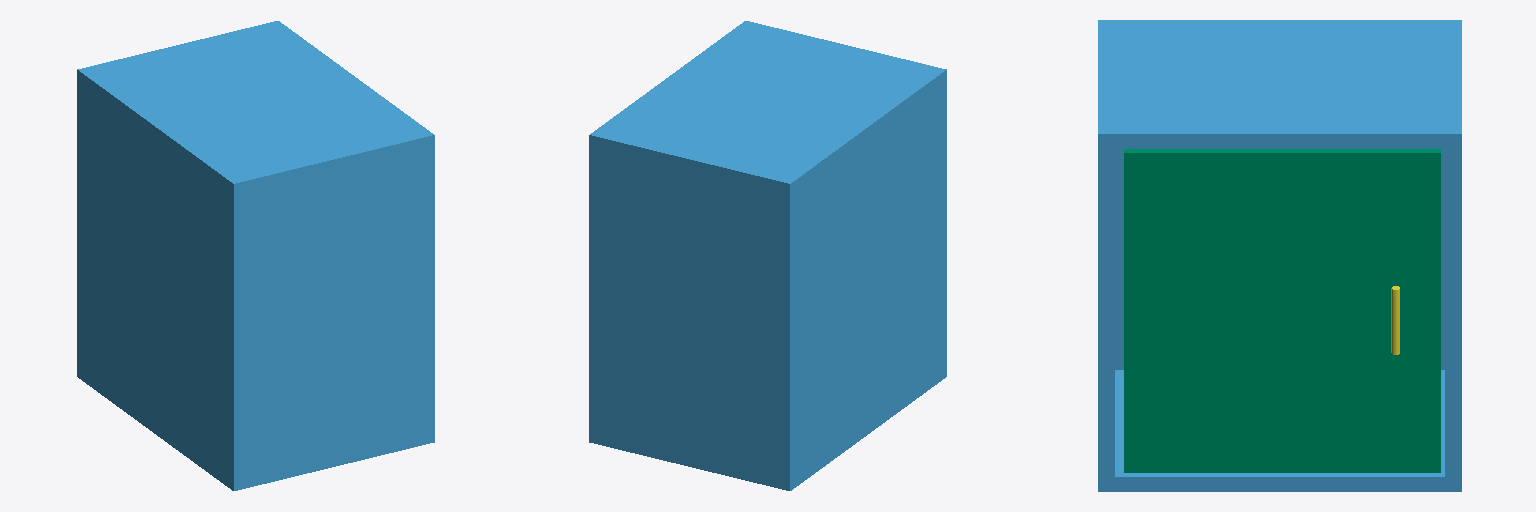
URDF robot description (my_cabinet):
<?xml version="1.0" ?>
<robot name="my_cabinet">
	<link name="world"/>
	<joint name="virtual_joint" type="fixed">
		<parent link="world"/>
		<child link="base_cabinet_link"/>
		<origin xyz="0.0 0.0 0.0" rpy="0.0 0.0 0.0"/>
	</joint>
	<link name="base_cabinet_link">
		<visual>
			<origin xyz="0.0 -0.0025 -0.2101739739886362" rpy="0.0 0.0 0.0"/>
			<geometry>
				<box size="0.3 0.4040233537092043 0.018"/>
			</geometry>
		</visual>
		<collision name="base_cabinet_link_collision_0">
			<origin xyz="0.0 -0.0025 -0.2101739739886362" rpy="0.0 0.0 0.0"/>
			<geometry>
				<box size="0.3 0.4040233537092043 0.018"/>
			</geometry>
		</collision>
		<visual>
			<origin xyz="0.0 0.19051167685460216 0.0" rpy="0.0 0.0 0.0"/>
			<geometry>
				<box size="0.3 0.018 0.4383479479772724"/>
			</geometry>
		</visual>
		<collision name="base_cabinet_link_collision_1">
			<origin xyz="0.0 0.19051167685460216 0.0" rpy="0.0 0.0 0.0"/>
			<geometry>
				<box size="0.3 0.018 0.4383479479772724"/>
			</geometry>
		</collision>
		<visual>
			<origin xyz="0.0 -0.19551167685460216 0.0" rpy="0.0 0.0 0.0"/>
			<geometry>
				<box size="0.3 0.018 0.4383479479772724"/>
			</geometry>
		</visual>
		<collision name="base_cabinet_link_collision_2">
			<origin xyz="0.0 -0.19551167685460216 0.0" rpy="0.0 0.0 0.0"/>
			<geometry>
				<box size="0.3 0.018 0.4383479479772724"/>
			</geometry>
		</collision>
		<visual>
			<origin xyz="0.0 -0.0025 0.2101739739886362" rpy="0.0 0.0 0.0"/>
			<geometry>
				<box size="0.3 0.4040233537092043 0.018"/>
			</geometry>
		</visual>
		<collision name="base_cabinet_link_collision_3">
			<origin xyz="0.0 -0.0025 0.2101739739886362" rpy="0.0 0.0 0.0"/>
			<geometry>
				<box size="0.3 0.4040233537092043 0.018"/>
			</geometry>
		</collision>
		<visual>
			<origin xyz="-0.141 -0.0025 0.0" rpy="0.0 0.0 0.0"/>
			<geometry>
				<box size="0.018 0.4040233537092043 0.4383479479772724"/>
			</geometry>
		</visual>
		<collision name="base_cabinet_link_collision_4">
			<origin xyz="-0.141 -0.0025 0.0" rpy="0.0 0.0 0.0"/>
			<geometry>
				<box size="0.018 0.4040233537092043 0.4383479479772724"/>
			</geometry>
		</collision>
		<inertial>
			<mass value="0.200000"/>
			<inertia ixx="0.005923" ixy="0.0" ixz="0.0" iyy="0.004702" iyz="0.0" izz="0.004221"/>
		</inertial>
	</link>
	<link name="door_link">
		<visual>
			<origin xyz="0.0 -0.17651167685460215 0.0"/>
			<geometry>
				<box size="0.018 0.3530233537092043 0.39234794797727235"/>
			</geometry>
		</visual>
		<collision name="door_link_collision">
			<origin xyz="0.0 -0.17651167685460215 0.0"/>
			<geometry>
				<box size="0.018 0.3530233537092043 0.39234794797727235"/>
			</geometry>
		</collision>
		<inertial>
			<mass value="0.200000"/>
			<inertia ixx="0.004643" ixy="0.0" ixz="0.0" iyy="0.002571" iyz="0.0" izz="0.002082"/>
		</inertial>
	</link>
	<joint name="door_joint" type="revolute">
		<origin xyz="0.141 -0.17651167685460215 0.0" rpy="0.000000 -0.000000 3.141593"/>
		<axis xyz="0 0 1"/>
		<parent link="base_cabinet_link"/>
		<child link="door_link"/>
		<limit effort="50" lower="-1.658062789394613" upper="0" velocity="10"/>
		<dynamics friction="3.5" damping="3.5"/>
	</joint>
	<link name="handle_link">
		<visual>
			<origin xyz="0.0 0.0 0.0" rpy="0.0 0.0 0.0"/>
			<geometry>
				<cylinder length="0.08" radius="0.005"/>
			</geometry>
		</visual>
		<collision name="handle_link_collision_0">
			<origin xyz="0.0 0.0 0.0" rpy="0.0 0.0 0.0"/>
			<geometry>
				<cylinder length="0.08" radius="0.005"/>
			</geometry>
		</collision>
		<visual>
			<origin xyz="-0.01 0.0 0.02" rpy="0.0 1.5707963267948966 0.0"/>
			<geometry>
				<cylinder length="0.02" radius="0.003"/>
			</geometry>
		</visual>
		<collision name="handle_link_collision_1">
			<origin xyz="-0.01 0.0 0.02" rpy="0.0 1.5707963267948966 0.0"/>
			<geometry>
				<cylinder length="0.01" radius="0.003"/>
			</geometry>
		</collision>
		<visual>
			<origin xyz="-0.01 0.0 -0.02" rpy="0.0 1.5707963267948966 0.0"/>
			<geometry>
				<cylinder length="0.02" radius="0.003"/>
			</geometry>
		</visual>
		<collision name="handle_link_collision_2">
			<origin xyz="-0.01 0.0 -0.02" rpy="0.0 1.5707963267948966 0.0"/>
			<geometry>
				<cylinder length="0.02" radius="0.003"/>
			</geometry>
		</collision>
		<inertial>
			<mass value="0.050000"/>
			<inertia ixx="0.000027" ixy="0.0" ixz="0.0" iyy="0.000029" iyz="0.0" izz="0.000003"/>
		</inertial>
	</link>
	<joint name="handle_joint" type="fixed">
		<origin xyz="-0.028999999999999998 -0.3030233537092043 0.0" rpy="0.000000 -0.000000 3.141593"/>
		<parent link="door_link"/>
		<child link="handle_link"/>
	</joint>
	<gazebo reference="base_cabinet_link">
		<sensor name="main_sensor" type="contact">
			<selfCollide>true</selfCollide>
			<alwaysOn>true</alwaysOn>
			<updateRate>5.0</updateRate>
			<material>Gazebo/Red</material>
			<contact>
				<collision>base_cabinet_link_collision_0_collision</collision>
				<collision>base_cabinet_link_collision_1_collision</collision>
				<collision>base_cabinet_link_collision_2_collision</collision>
				<collision>base_cabinet_link_collision_3_collision</collision>
				<collision>base_cabinet_link_collision_4_collision</collision>
			</contact>
			<plugin name="gazebo_ros_bumper_controller" filename="libgazebo_ros_bumper.so">
				<bumperTopicName>/contact</bumperTopicName>
				<frameName>world</frameName>
			</plugin>
		</sensor>
	</gazebo>
	<gazebo reference="door_link">
		<sensor name="main_sensor" type="contact">
			<selfCollide>true</selfCollide>
			<alwaysOn>true</alwaysOn>
			<updateRate>5.0</updateRate>
			<material>Gazebo/Red</material>
			<contact>
				<collision>door_link_collision_collision</collision>
			</contact>
			<plugin name="gazebo_ros_bumper_controller" filename="libgazebo_ros_bumper.so">
				<bumperTopicName>/contact_door</bumperTopicName>
				<frameName>contact_door</frameName>
			</plugin>
		</sensor>
	</gazebo>
	<gazebo reference="door_link">
		<mu>3.0</mu>
		<mu2>3.0</mu2>
		<kp>10000000</kp>
		<kd>100</kd>
	</gazebo>
</robot>

--- Render facts (derived) ---
The picture shows the robot from 3 angles, left to right: view 1: azimuth 30°, elevation 25°; view 2: azimuth 150°, elevation 25°; view 3: azimuth 270°, elevation 25°; orthographic projection.
Model my_cabinet with 4 links and 3 joints (1 revolute, 2 fixed), rooted at world, posed every joint at zero.
Visible links, largest first — view 1: base_cabinet_link; view 2: base_cabinet_link; view 3: door_link, base_cabinet_link, handle_link.
Link boxes in pixels (x1=…): base_cabinet_link: x1=77, y1=21, x2=434, y2=490; base_cabinet_link: x1=589, y1=21, x2=946, y2=490; door_link: x1=1124, y1=149, x2=1440, y2=472; base_cabinet_link: x1=1098, y1=20, x2=1461, y2=491; handle_link: x1=1391, y1=286, x2=1399, y2=354.
Bounding box of the posed robot: 0.325 × 0.404 × 0.4383 m (x, y, z).
Geometry: primitives only (box / cylinder / sphere), no mesh files.
